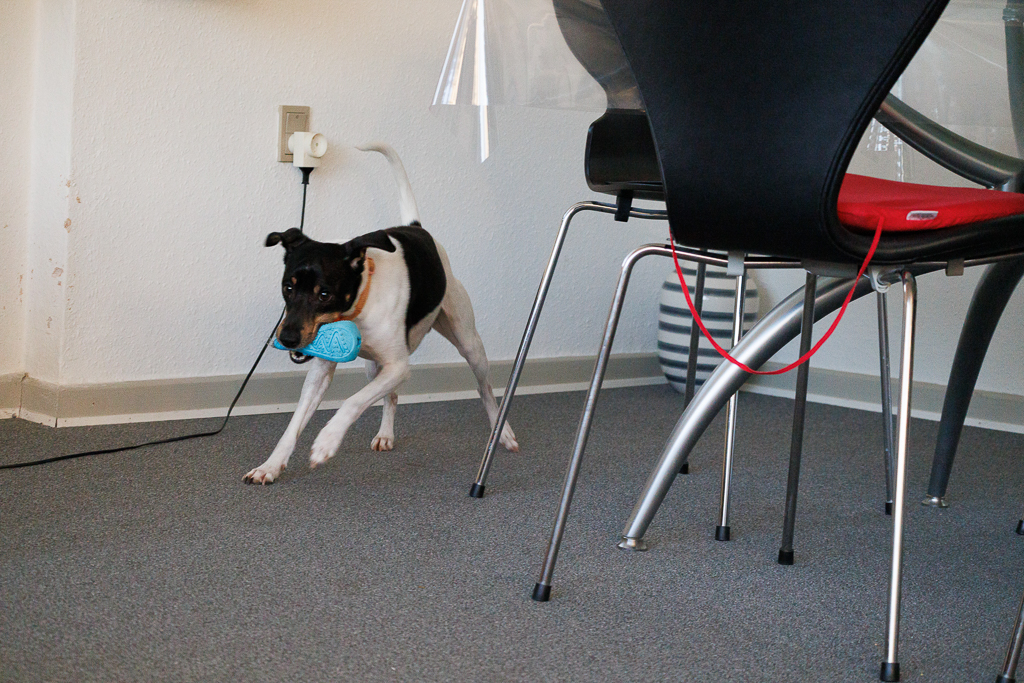Dog: (225, 134, 534, 496)
